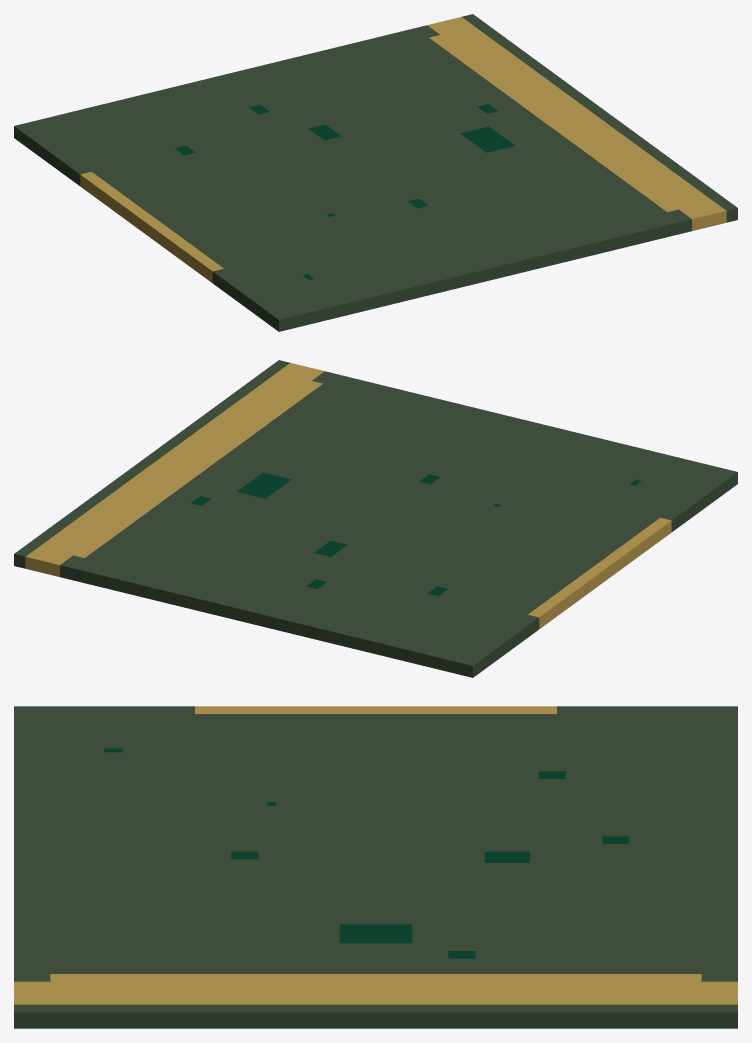
File: cars_street_8_b.glb
3 renders of one model, top to bottom at view 1: azimuth 30°, elevation 25°; view 2: azimuth 150°, elevation 25°; view 3: azimuth 270°, elevation 25°, orthographic. The views are drawn at different scales.
Visible parts, largest first — view 1: cars_street_8_b; view 2: cars_street_8_b; view 3: cars_street_8_b.
Boxes of the visible parts, x1=… form: cars_street_8_b: x1=14, y1=14, x2=737, y2=331; cars_street_8_b: x1=14, y1=360, x2=737, y2=677; cars_street_8_b: x1=14, y1=706, x2=737, y2=1028.
Size of the model in its own units: 4 by 0.1 by 4.
Materials: 1 (1 with a texture image).
